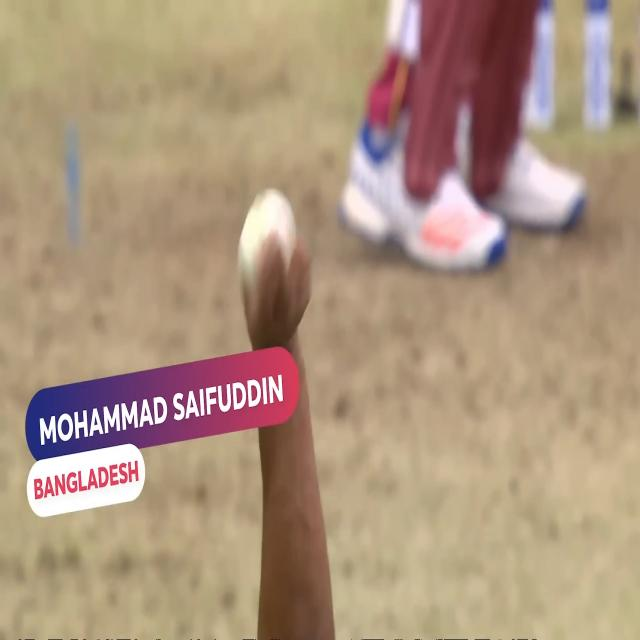ball: (235, 179, 308, 257)
